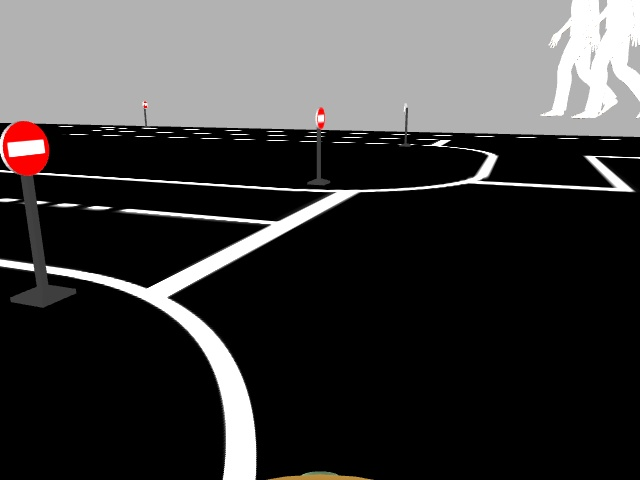NoEntry: (0, 121, 50, 179)
